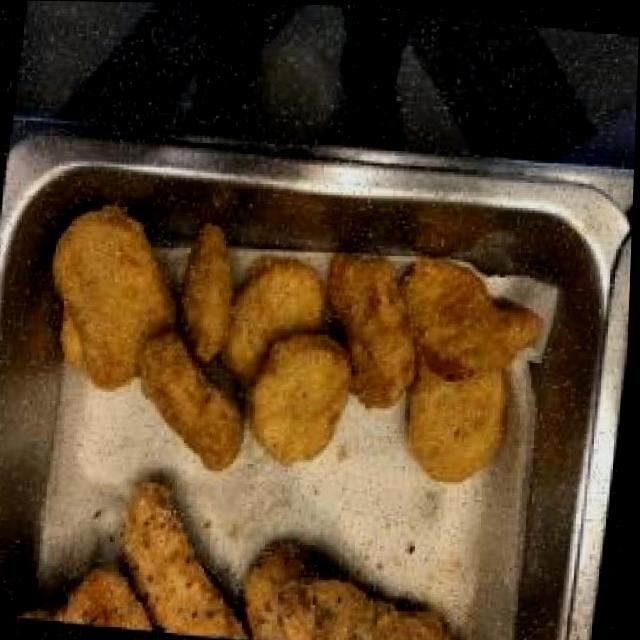chicken_nuggets: (31, 201, 552, 491)
